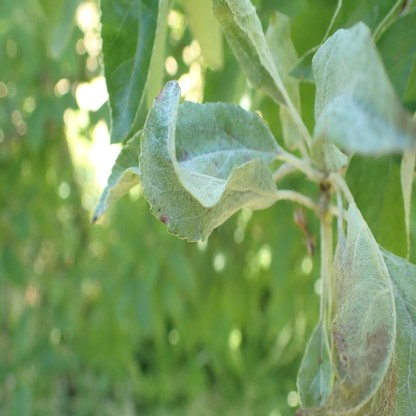powder: (139, 81, 278, 240), (330, 203, 397, 416), (380, 247, 416, 416), (313, 28, 352, 130), (228, 0, 257, 30)
